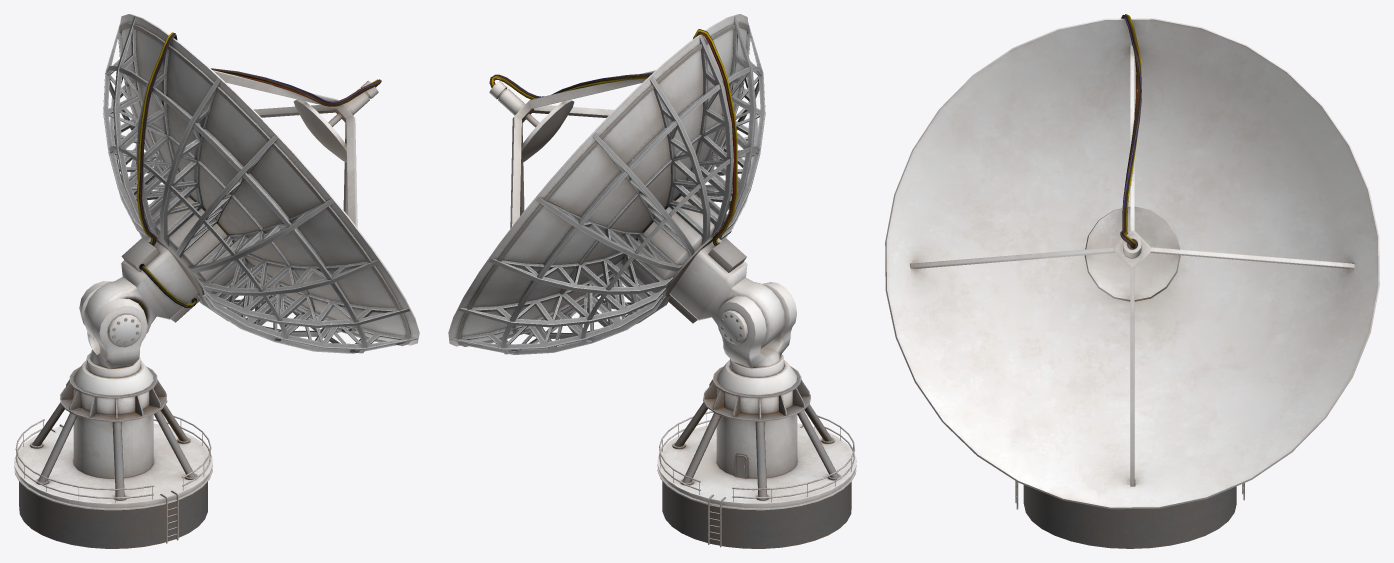
Rendered from Space satellite dish.fbx.
The picture shows the model from 3 angles, left to right: view 1: azimuth 30°, elevation 25°; view 2: azimuth 150°, elevation 25°; view 3: azimuth 270°, elevation 25°; orthographic projection. The views are drawn at different scales.
Parts seen in each view (by area): view 1: Space satellite dish1; view 2: Space satellite dish1; view 3: Space satellite dish1.
Part boxes in pixels (box(x1,y1,x2,y2)): Space satellite dish1: box(14, 14, 419, 548); Space satellite dish1: box(448, 14, 856, 548); Space satellite dish1: box(885, 14, 1379, 548).
Bounding box in the file's own units: 9920 × 12426 × 10695.
